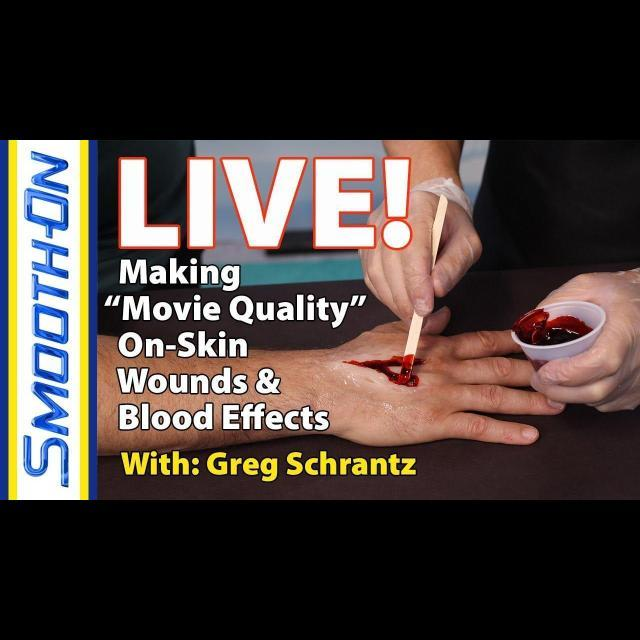blood: (514, 308, 594, 345), (344, 354, 426, 386), (529, 356, 550, 371)
